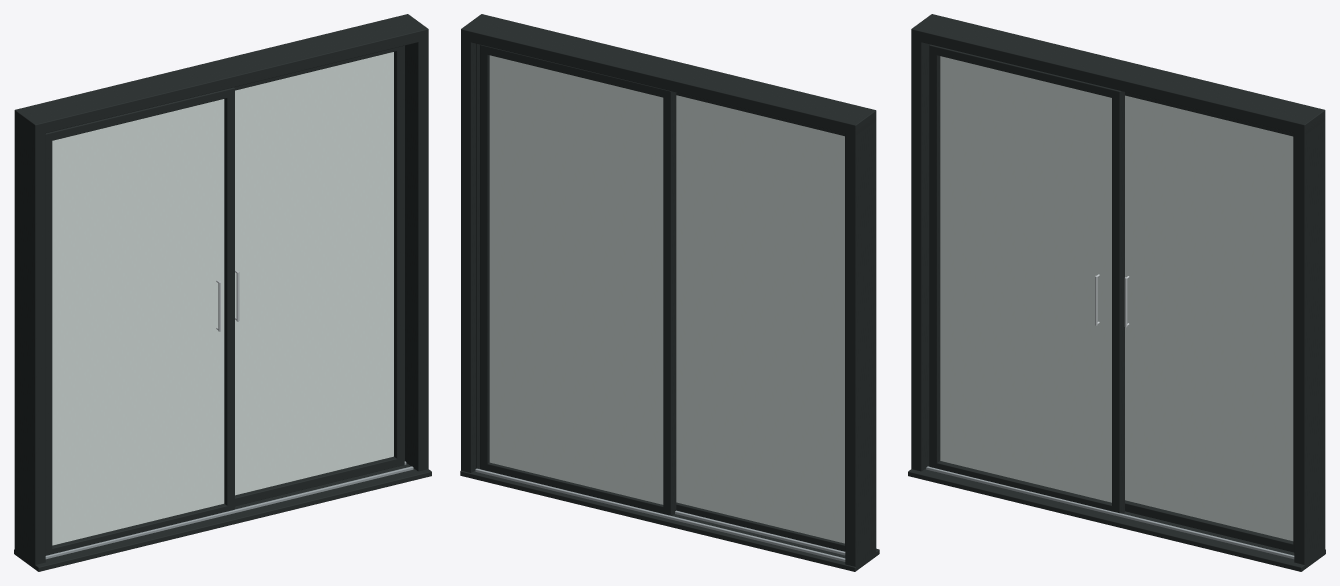
Rendered from sliding-patio-door.glb.
The picture shows the model from 3 angles, left to right: view 1: azimuth 30°, elevation 25°; view 2: azimuth 150°, elevation 25°; view 3: azimuth 330°, elevation 25°; orthographic projection.
Parts seen in each view (by area): view 1: Sash | glass pane, Sash | glass pane.001, Frame | jamb, Frame | header, Frame | jamb.001, Frame | sill, Sash | stile.001, Sash | stile.003, Sash | stile, Sash | crossrail.002, Sash | crossrail.001, Sash | crossrail (+2 smaller); view 2: Sash | glass pane.001, Sash | glass pane, Frame | jamb, Frame | header, Frame | jamb.001, Sash | stile.002, Sash | stile.003, Frame | sill, Sash | crossrail.002, Frame | door stop.001, Slider | lower guide rail.002, Sash | crossrail.003 (+3 smaller); view 3: Sash | glass pane, Sash | glass pane.001, Frame | jamb.001, Frame | header, Frame | jamb, Sash | stile.001, Frame | sill, Sash | stile, Sash | crossrail.002, Sash | crossrail.001, Sash | crossrail, Slider | lower guide rail (+2 smaller).
Boxes of the visible parts, bbox=[...] form: Sash | glass pane: bbox=[52, 99, 224, 545]; Sash | glass pane.001: bbox=[235, 52, 393, 495]; Frame | jamb: bbox=[14, 114, 45, 565]; Frame | header: bbox=[14, 14, 428, 135]; Frame | jamb.001: bbox=[405, 29, 428, 471]; Frame | sill: bbox=[14, 463, 431, 571]; Sash | stile.001: bbox=[224, 87, 234, 510]; Sash | stile.003: bbox=[394, 45, 404, 466]; Sash | stile: bbox=[45, 132, 52, 555]; Sash | crossrail.002: bbox=[235, 456, 398, 506]; Sash | crossrail.001: bbox=[51, 89, 228, 140]; Sash | crossrail: bbox=[52, 503, 228, 554]; Sash | glass pane.001: bbox=[489, 55, 663, 504]; Sash | glass pane: bbox=[676, 95, 844, 543]; Frame | jamb: bbox=[845, 121, 876, 566]; Frame | header: bbox=[461, 14, 876, 135]; Frame | jamb.001: bbox=[461, 31, 479, 472]; Sash | stile.002: bbox=[663, 89, 676, 515]; Sash | stile.003: bbox=[480, 44, 489, 470]; Frame | sill: bbox=[460, 467, 879, 571]; Sash | crossrail.002: bbox=[486, 462, 663, 513]; Frame | door stop.001: bbox=[476, 43, 479, 468]; Slider | lower guide rail.002: bbox=[475, 468, 845, 561]; Sash | crossrail.003: bbox=[486, 46, 664, 97]; Sash | glass pane: bbox=[940, 56, 1111, 502]; Sash | glass pane.001: bbox=[1125, 95, 1293, 540]; Frame | jamb.001: bbox=[1294, 113, 1325, 565]; Frame | header: bbox=[911, 14, 1325, 135]; Frame | jamb: bbox=[911, 31, 930, 471]; Sash | stile.001: bbox=[1112, 89, 1124, 513]; Frame | sill: bbox=[908, 466, 1325, 571]; Sash | stile: bbox=[929, 44, 940, 468]; Sash | crossrail.002: bbox=[1125, 500, 1293, 552]; Sash | crossrail.001: bbox=[936, 46, 1113, 97]; Sash | crossrail: bbox=[936, 461, 1112, 511]; Slider | lower guide rail: bbox=[926, 466, 1294, 559].
Size of the model in its own units: 2.04 by 2.21 by 0.222.
4 materials, 4 textured.
